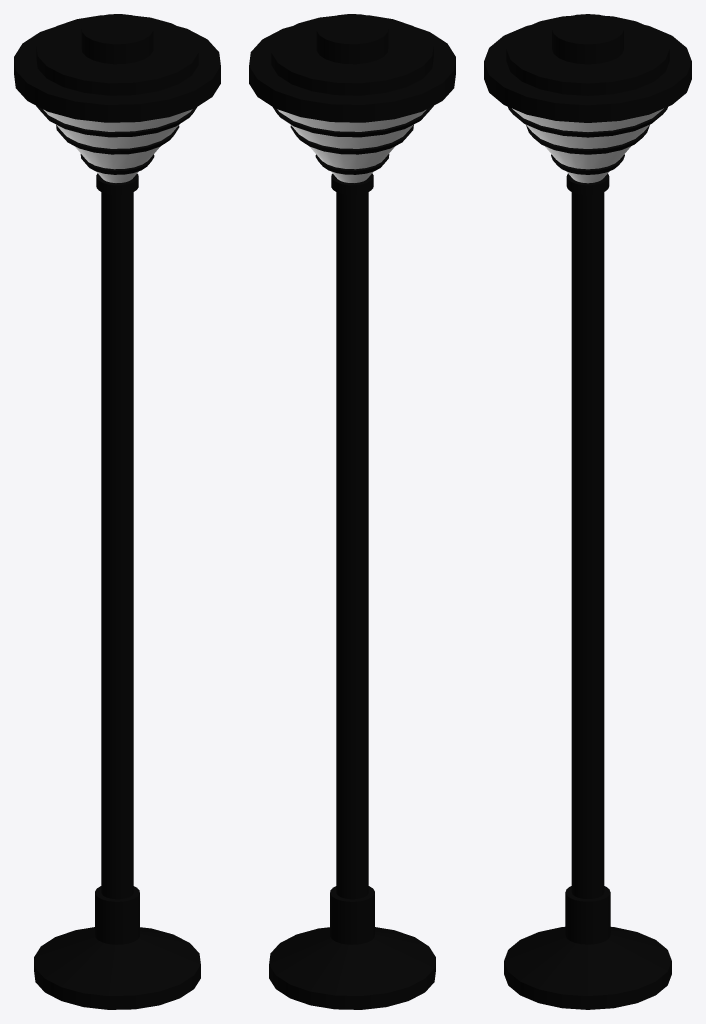
File: objLamp.obj
3 renders of one model, left to right at view 1: azimuth 30°, elevation 25°; view 2: azimuth 150°, elevation 25°; view 3: azimuth 270°, elevation 25°, orthographic.
Visible parts, largest first — view 1: lamp6; view 2: lamp6; view 3: lamp6.
Boxes of the visible parts, bbox=[...] form: lamp6: bbox=[14, 14, 220, 1009]; lamp6: bbox=[249, 14, 455, 1009]; lamp6: bbox=[484, 14, 691, 1009].
Bounding box in the file's own units: 2.44 × 12.25 × 2.44.
